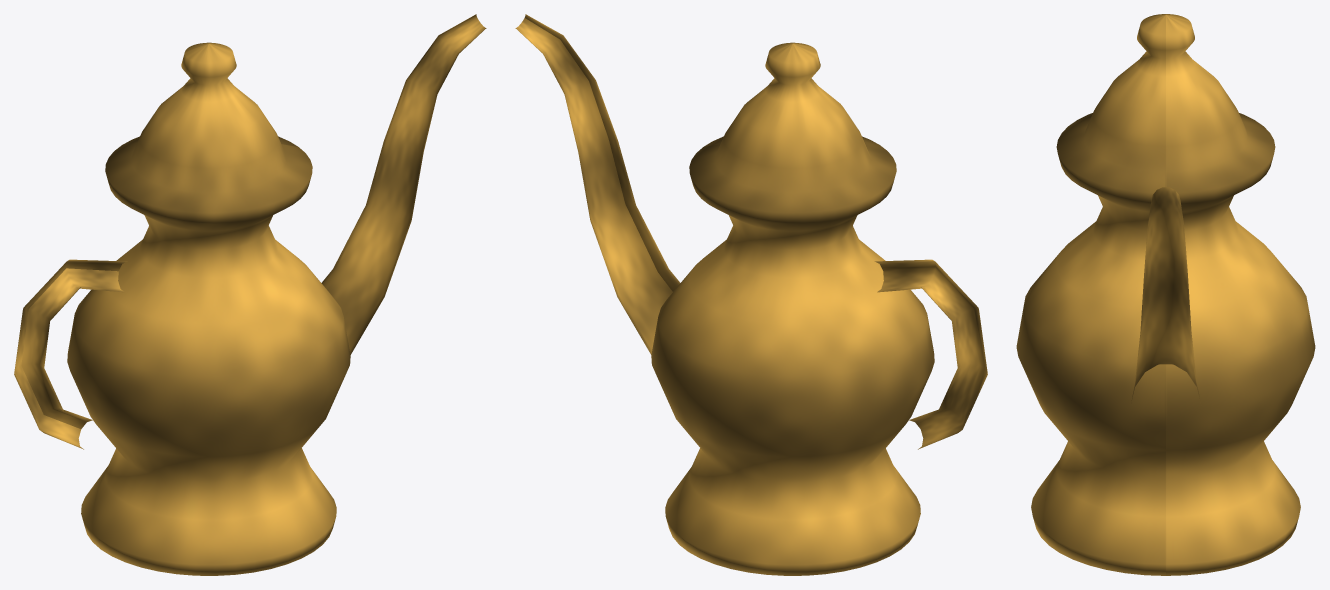
3 renders of one model, left to right at view 1: azimuth 30°, elevation 25°; view 2: azimuth 150°, elevation 25°; view 3: azimuth 270°, elevation 25°, orthographic. The views are drawn at different scales.
Visible parts, largest first — view 1: prop_dallah_0, prop_dallah_1, prop_dallah_2; view 2: prop_dallah_0, prop_dallah_1, prop_dallah_2; view 3: prop_dallah_0, prop_dallah_1.
Part boxes in pixels (x1,y1,x2,y2): prop_dallah_0: [67, 42, 350, 575]; prop_dallah_1: [321, 14, 486, 354]; prop_dallah_2: [14, 259, 127, 449]; prop_dallah_0: [651, 42, 934, 575]; prop_dallah_1: [515, 14, 680, 354]; prop_dallah_2: [874, 259, 987, 449]; prop_dallah_0: [1016, 14, 1315, 575]; prop_dallah_1: [1131, 187, 1200, 403].
Bounding box in the file's own units: 0.3125 × 0.306 × 0.164.
Materials: 1 (1 with a texture image).
